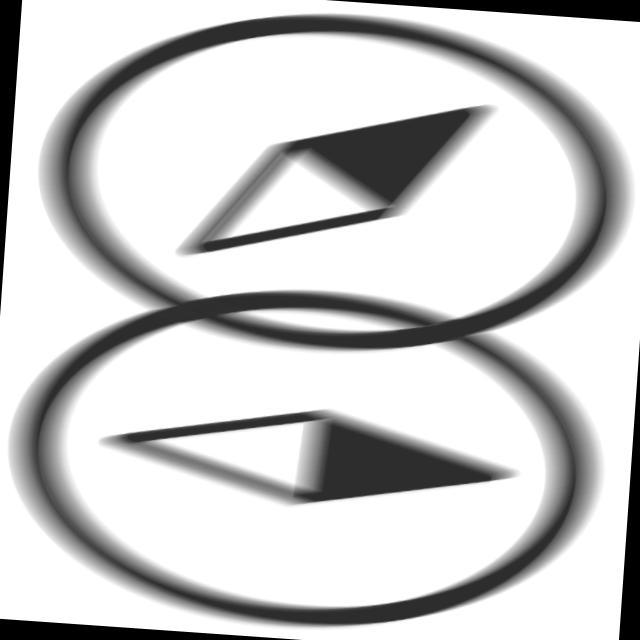compass: (11, 1, 640, 382), (1, 266, 628, 640)
